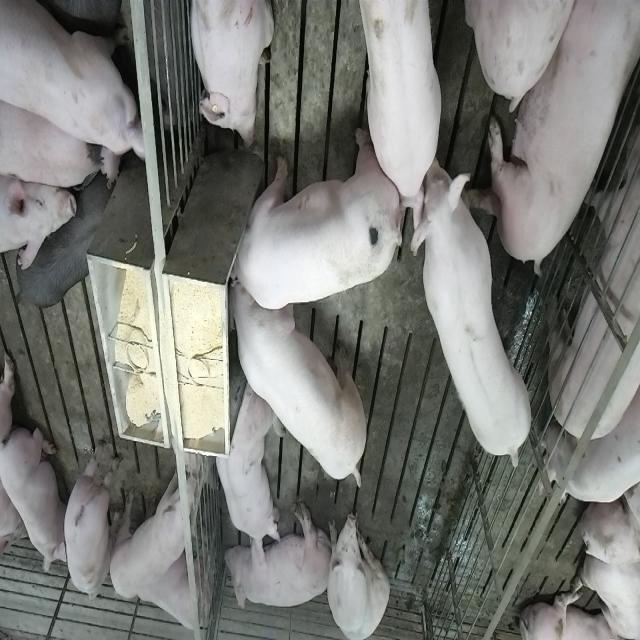Feeding: (220, 127, 397, 310), (229, 280, 371, 496)
Lateral_lying: (476, 5, 636, 278), (224, 499, 333, 614)
Sitting: (326, 503, 390, 637)
Standing: (546, 1, 640, 447), (408, 160, 534, 477), (2, 0, 148, 183), (354, 0, 444, 205), (16, 183, 110, 310), (107, 466, 197, 598), (543, 389, 640, 509), (1, 89, 102, 192), (62, 432, 114, 608), (0, 172, 74, 270)
Sternal_lying: (186, 0, 274, 150), (209, 382, 279, 562), (3, 425, 67, 575)
